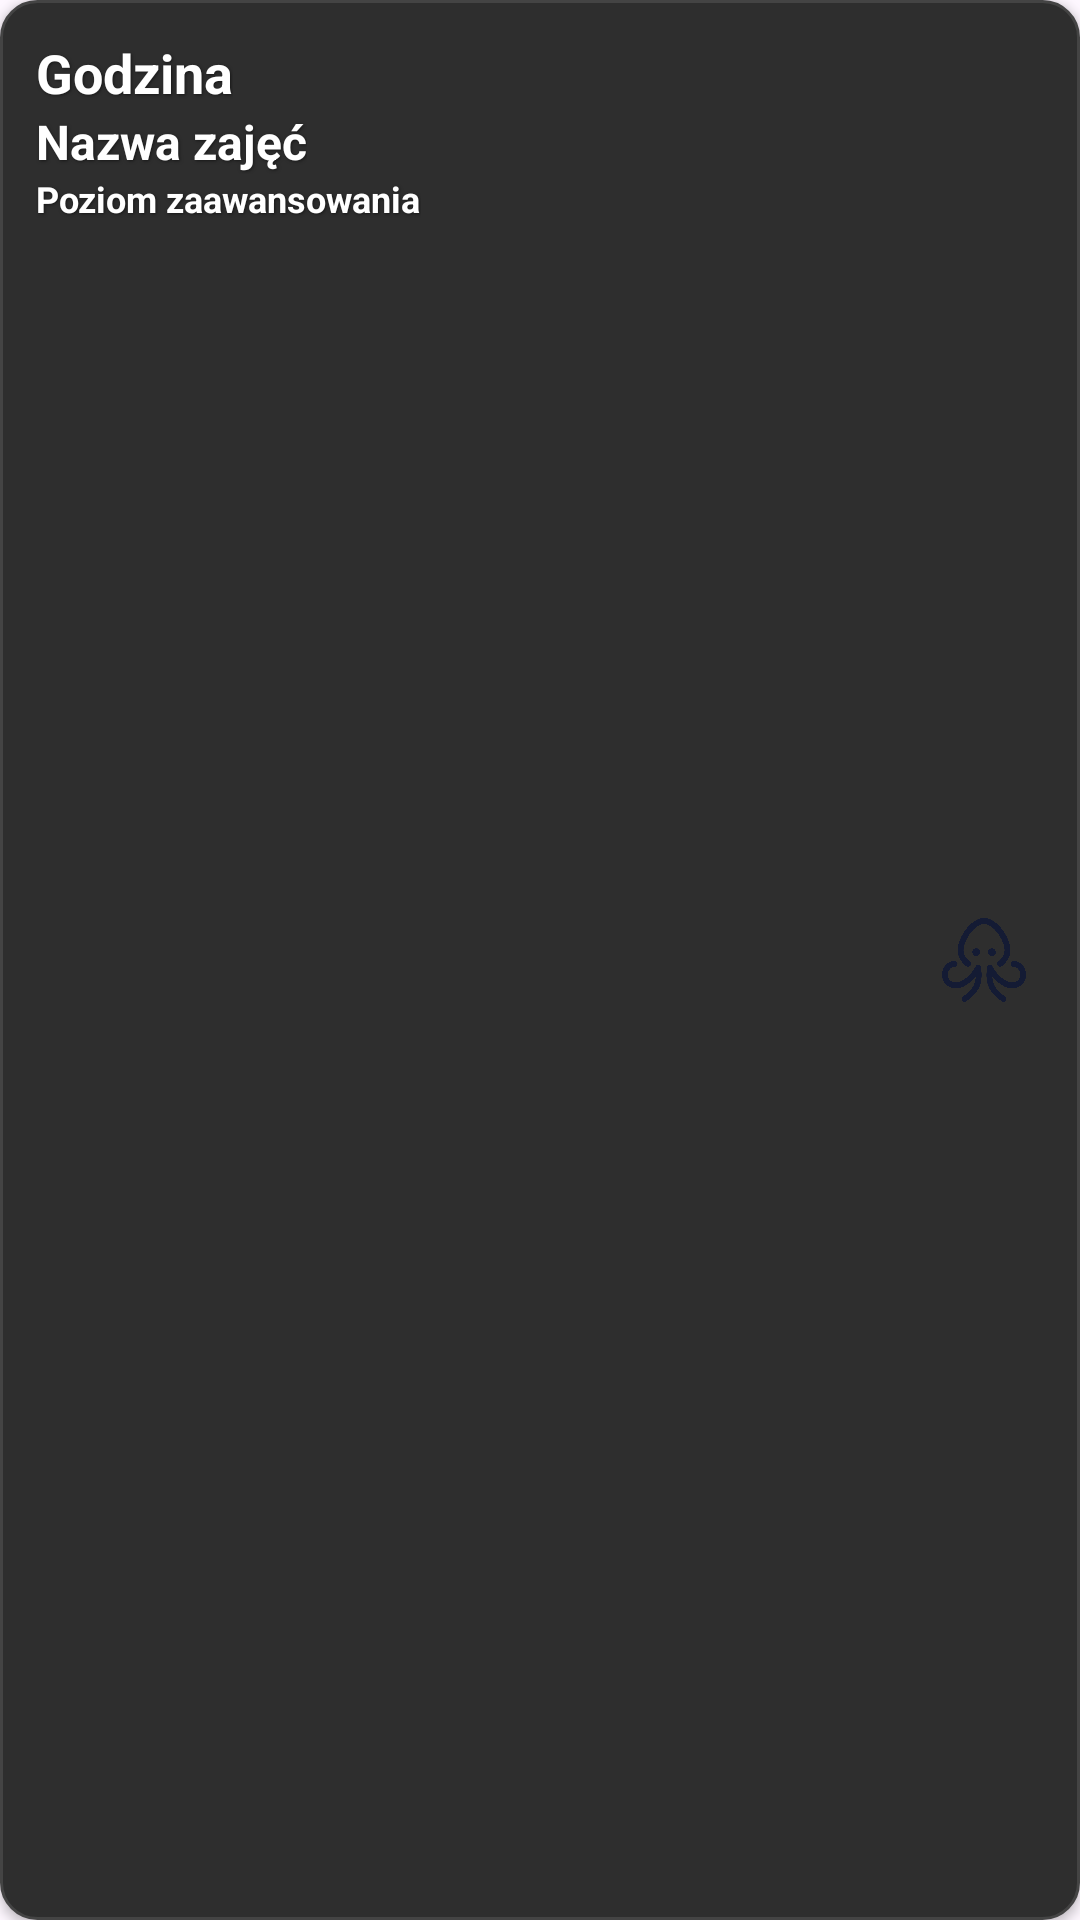

Where to tap for icons on this 1080x1920 app screen, as point (x, y):
octopus: point (984, 960)
